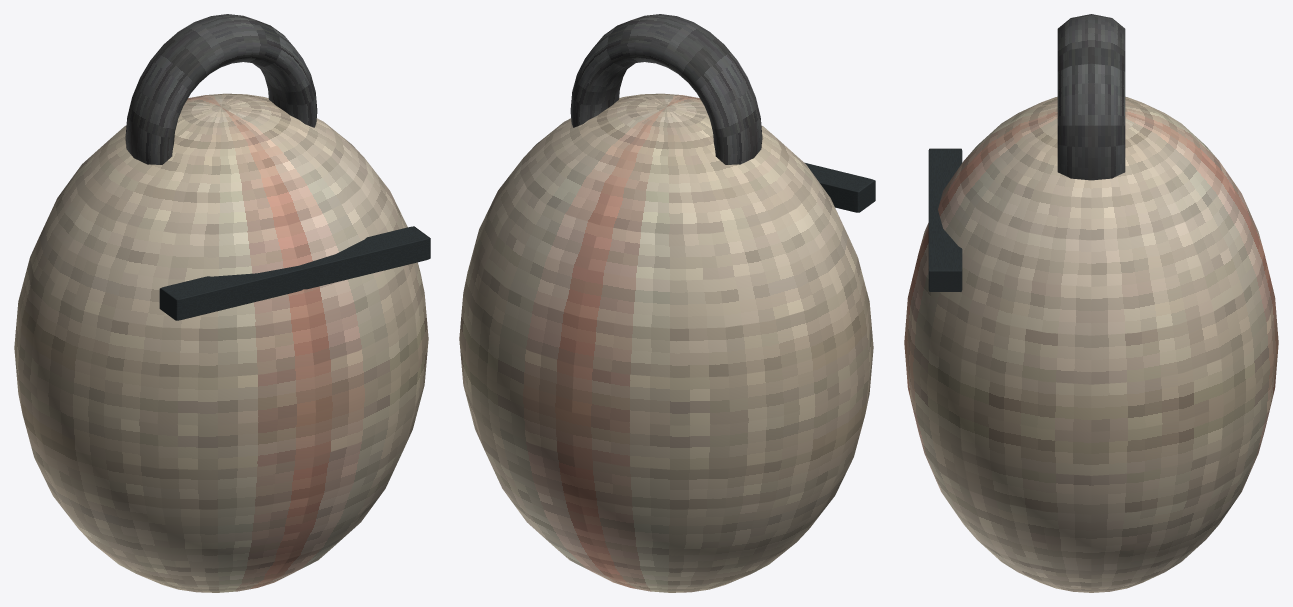
File: laundry-bag.glb
The picture shows the model from 3 angles, left to right: view 1: azimuth 30°, elevation 25°; view 2: azimuth 150°, elevation 25°; view 3: azimuth 270°, elevation 25°; orthographic projection.
Parts seen in each view (by area): view 1: soft-body, strap, zip; view 2: soft-body, strap, zip; view 3: soft-body, strap, zip.
Part boxes in pixels (x1=…): soft-body: x1=14, y1=93, x2=428, y2=592; strap: x1=125, y1=14, x2=317, y2=164; zip: x1=159, y1=226, x2=430, y2=320; soft-body: x1=459, y1=93, x2=873, y2=592; strap: x1=570, y1=14, x2=762, y2=164; zip: x1=804, y1=162, x2=875, y2=212; soft-body: x1=904, y1=96, x2=1278, y2=592; strap: x1=1057, y1=14, x2=1125, y2=180; zip: x1=928, y1=148, x2=962, y2=291.
Bounding box in the file's own units: 0.44 × 0.6368 × 0.39.
3 materials, 3 textured.
